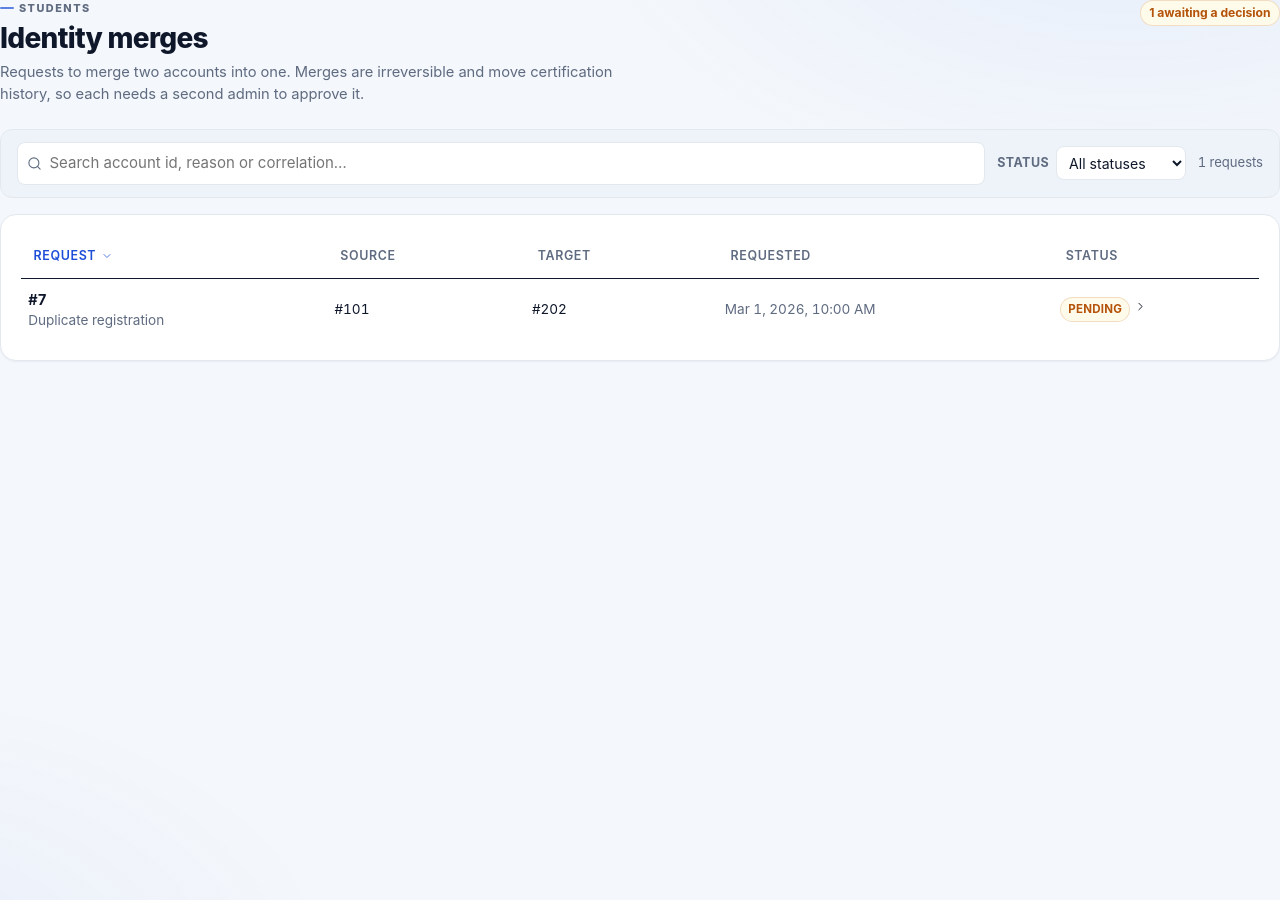
Scenario: Identity merges (approval workflow) › translates the two-person refusal into the rule, not the error code
Click the button that starts with "Duplicate registration": [96, 320] box [21,279,1259,340]
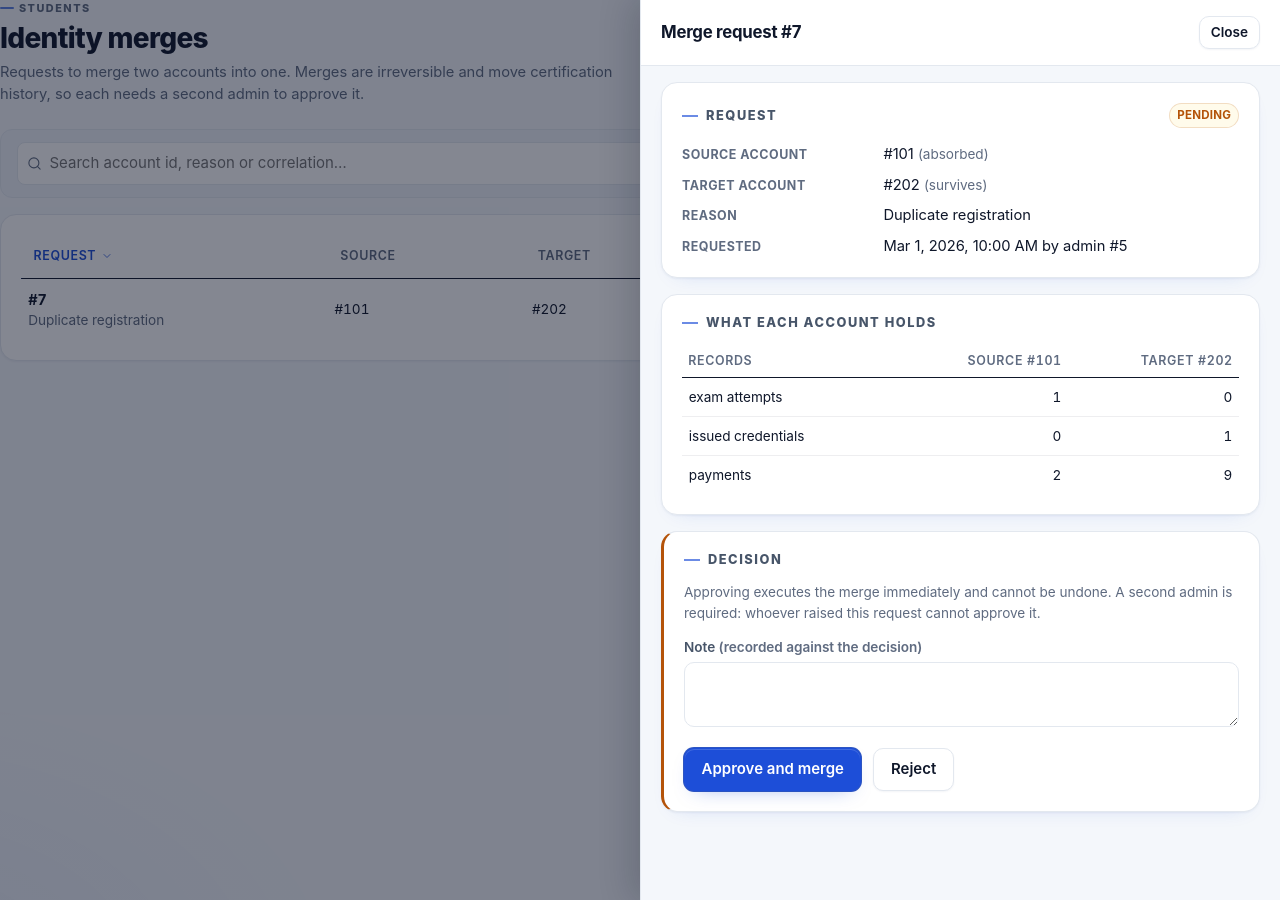
Click the button "Approve and merge": [773, 770] box [684,748,862,791]
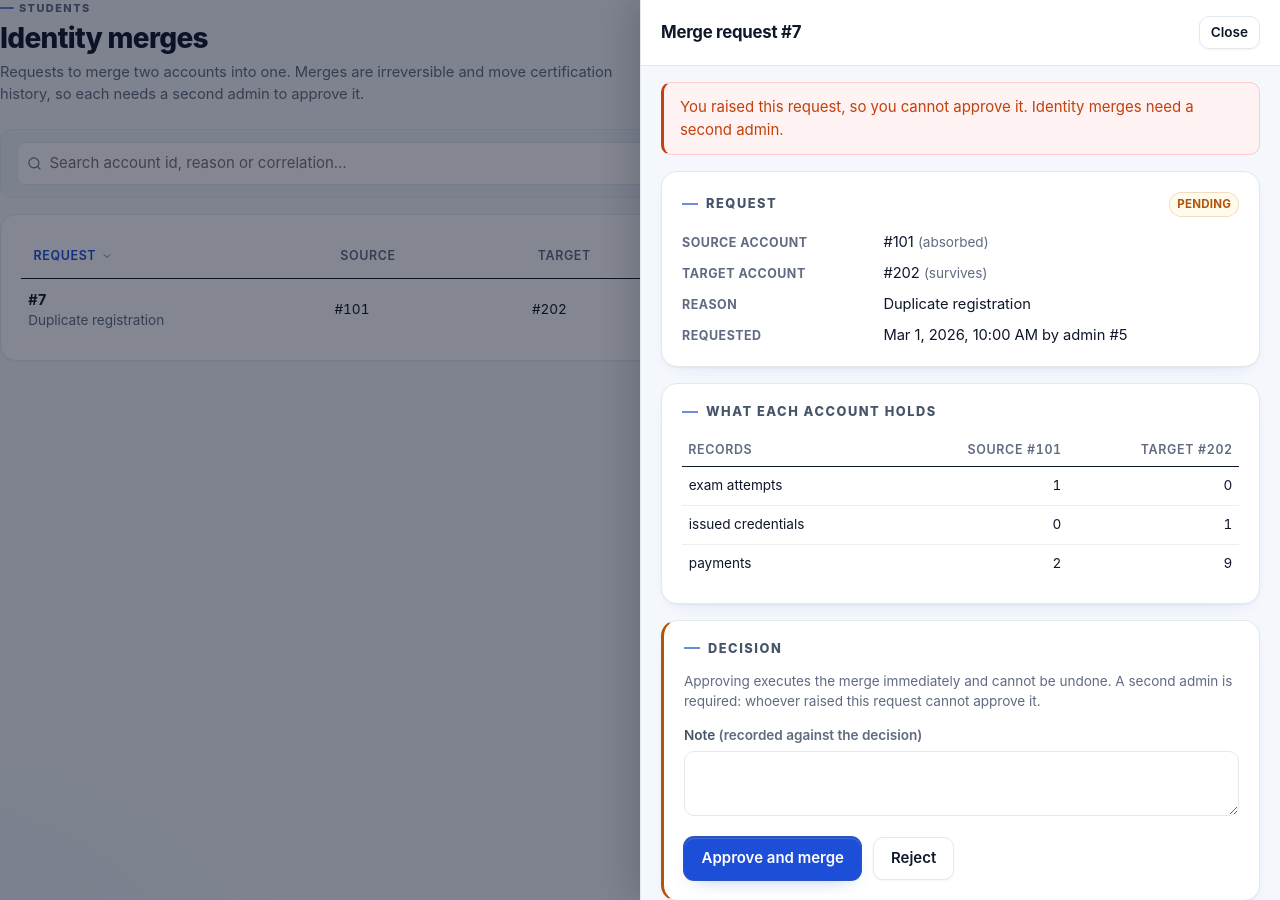
Result: the text "you cannot approve it. Identity merges need a second admin" is shown at [680,97,1194,139]
